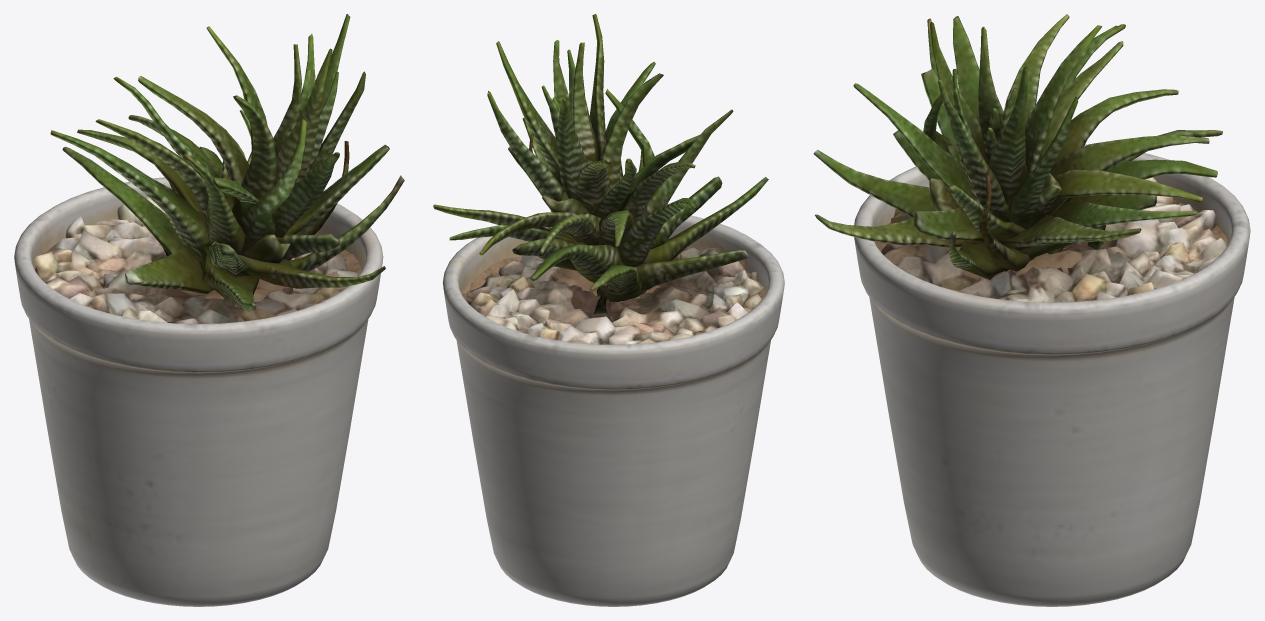
File: potted_plant_04.glb
The picture shows the model from 3 angles, left to right: view 1: azimuth 30°, elevation 25°; view 2: azimuth 150°, elevation 25°; view 3: azimuth 270°, elevation 25°; orthographic projection. The views are drawn at different scales.
Visible parts, largest first — view 1: potted_plant_04_pot, potted_plant_04_plant, potted_plant_04_ground, potted_plant_04_dirt; view 2: potted_plant_04_pot, potted_plant_04_plant, potted_plant_04_ground, potted_plant_04_dirt; view 3: potted_plant_04_pot, potted_plant_04_plant, potted_plant_04_ground, potted_plant_04_dirt.
Boxes of the visible parts, box(x1,y1,x2,y2) form: potted_plant_04_pot: box(14, 177, 383, 606); potted_plant_04_plant: box(50, 14, 404, 311); potted_plant_04_ground: box(34, 196, 357, 323); potted_plant_04_dirt: box(34, 238, 362, 307); potted_plant_04_pot: box(442, 215, 784, 606); potted_plant_04_plant: box(433, 14, 768, 314); potted_plant_04_ground: box(463, 247, 765, 344); potted_plant_04_dirt: box(462, 247, 765, 306); potted_plant_04_pot: box(854, 144, 1250, 606); potted_plant_04_plant: box(813, 14, 1222, 279); potted_plant_04_ground: box(881, 177, 1227, 302); potted_plant_04_dirt: box(875, 200, 1228, 297).
Bounding box in the file's own units: 0.1679 × 0.2675 × 0.1848.
Materials: 1 (1 with a texture image).
